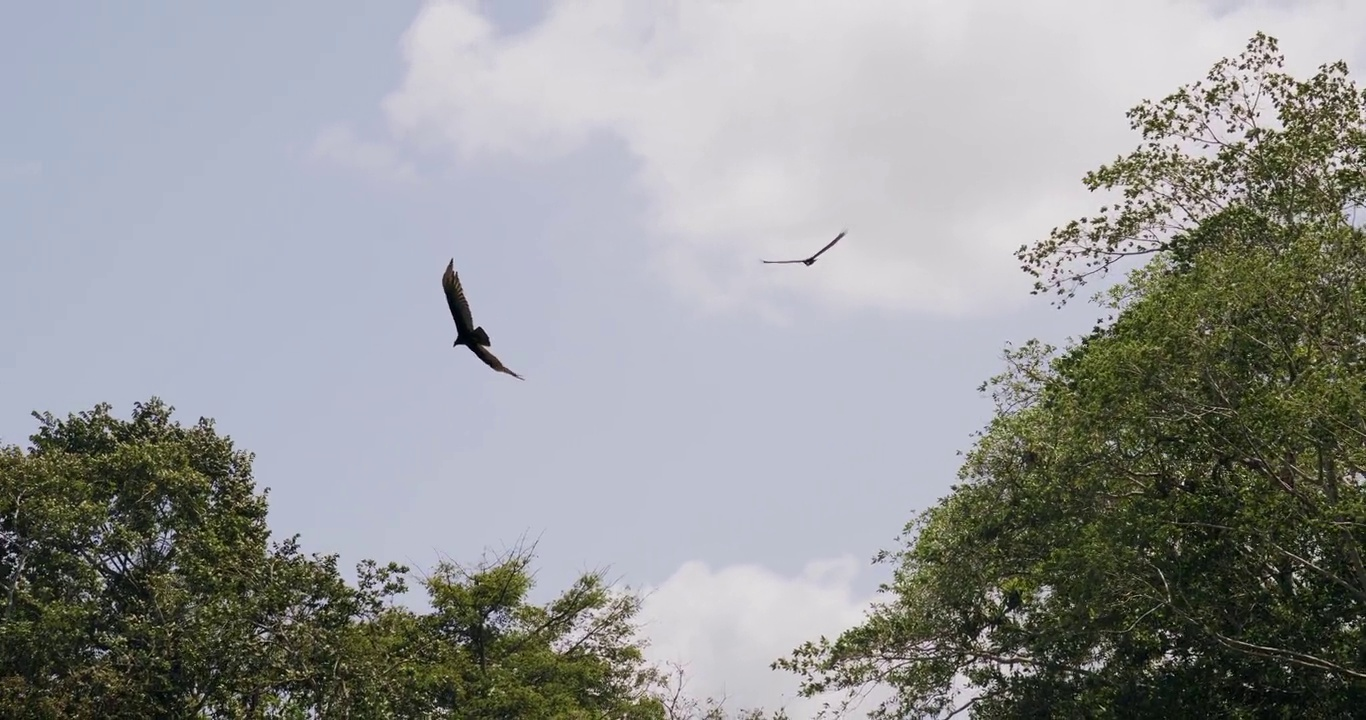bird: (442, 260, 526, 378), (762, 234, 845, 267)
